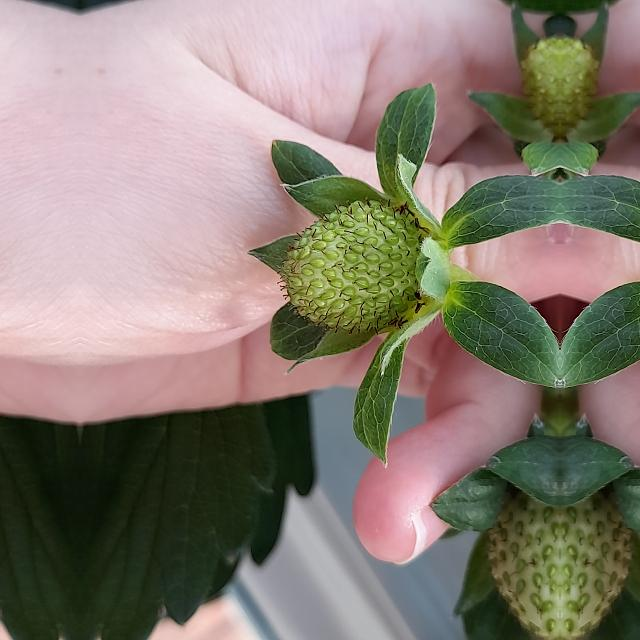Health_25: (276, 197, 428, 335), (484, 483, 560, 639), (560, 483, 636, 639)
